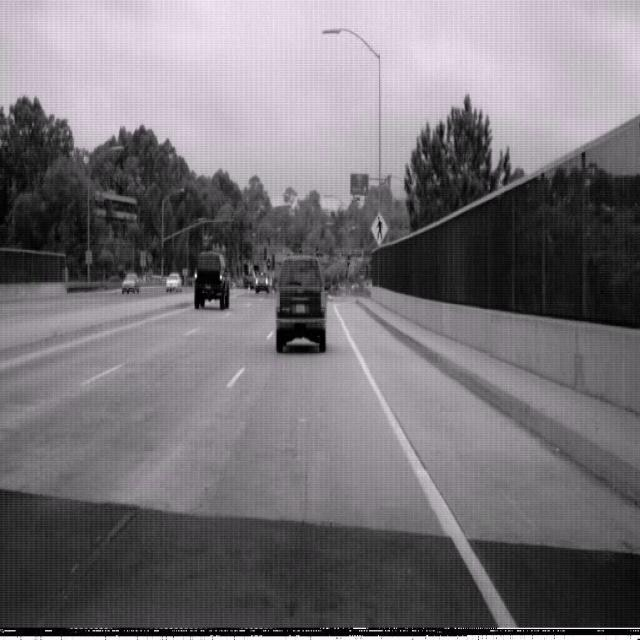pedestrianCrossing: (369, 208, 389, 248)
